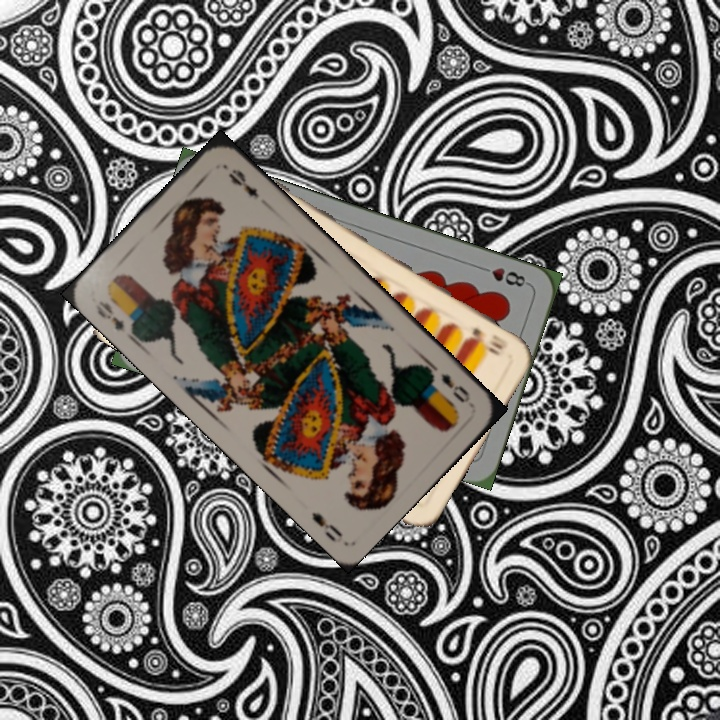E10: (467, 323, 510, 353)
EO: (91, 294, 138, 342), (436, 369, 473, 406)
H8: (474, 262, 532, 290)
